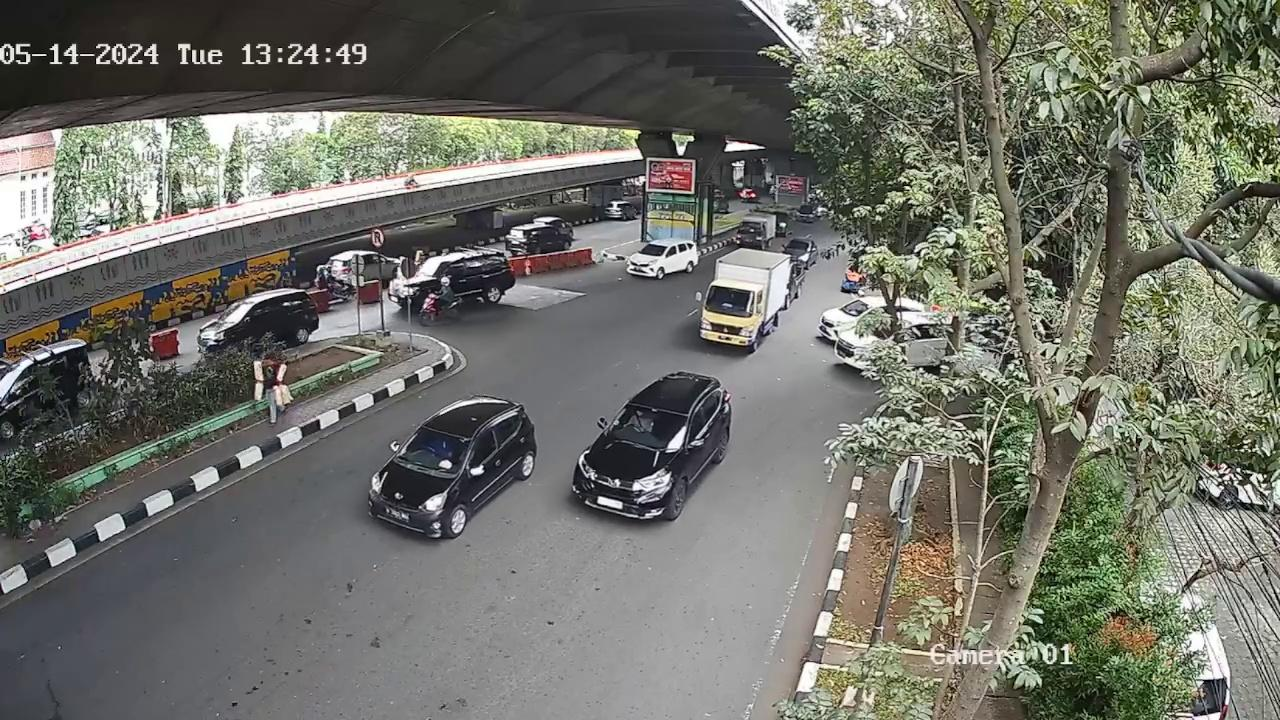pakai: (625, 410, 655, 434)
tidak-pakai: (426, 434, 454, 461)
windshield: (607, 404, 690, 454), (393, 428, 472, 474), (702, 286, 759, 314)
